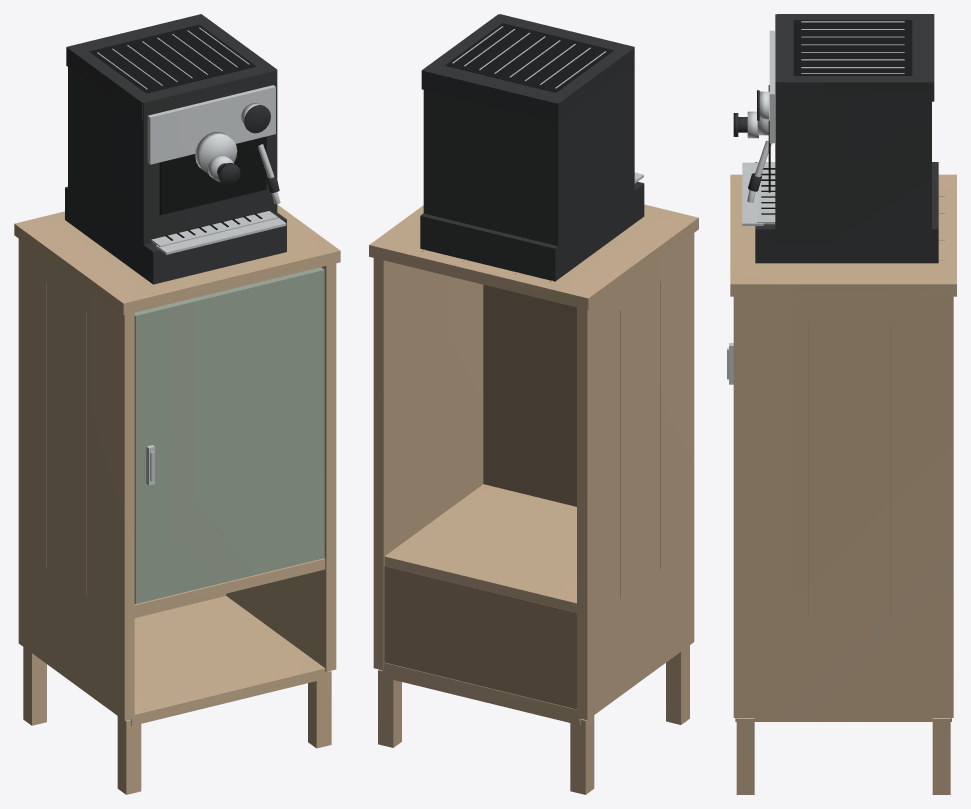
File: coffee-bar-v1.glb
3 views of the same model, side by side, from view 1: azimuth 30°, elevation 25°; view 2: azimuth 150°, elevation 25°; view 3: azimuth 270°, elevation 25° (orthographic). The views are drawn at different scales.
Visible parts, largest first — view 1: cabinet, machine; view 2: cabinet, machine; view 3: cabinet, machine.
Boxes of the visible parts, left/top/right/bottom form: cabinet: left=14, top=204, right=340, bottom=794; machine: left=65, top=14, right=286, bottom=284; cabinet: left=369, top=204, right=698, bottom=794; machine: left=420, top=14, right=644, bottom=281; cabinet: left=727, top=174, right=956, bottom=794; machine: left=733, top=14, right=938, bottom=263.
Bounding box in the file's own units: 0.39 × 1.15 × 0.345.
